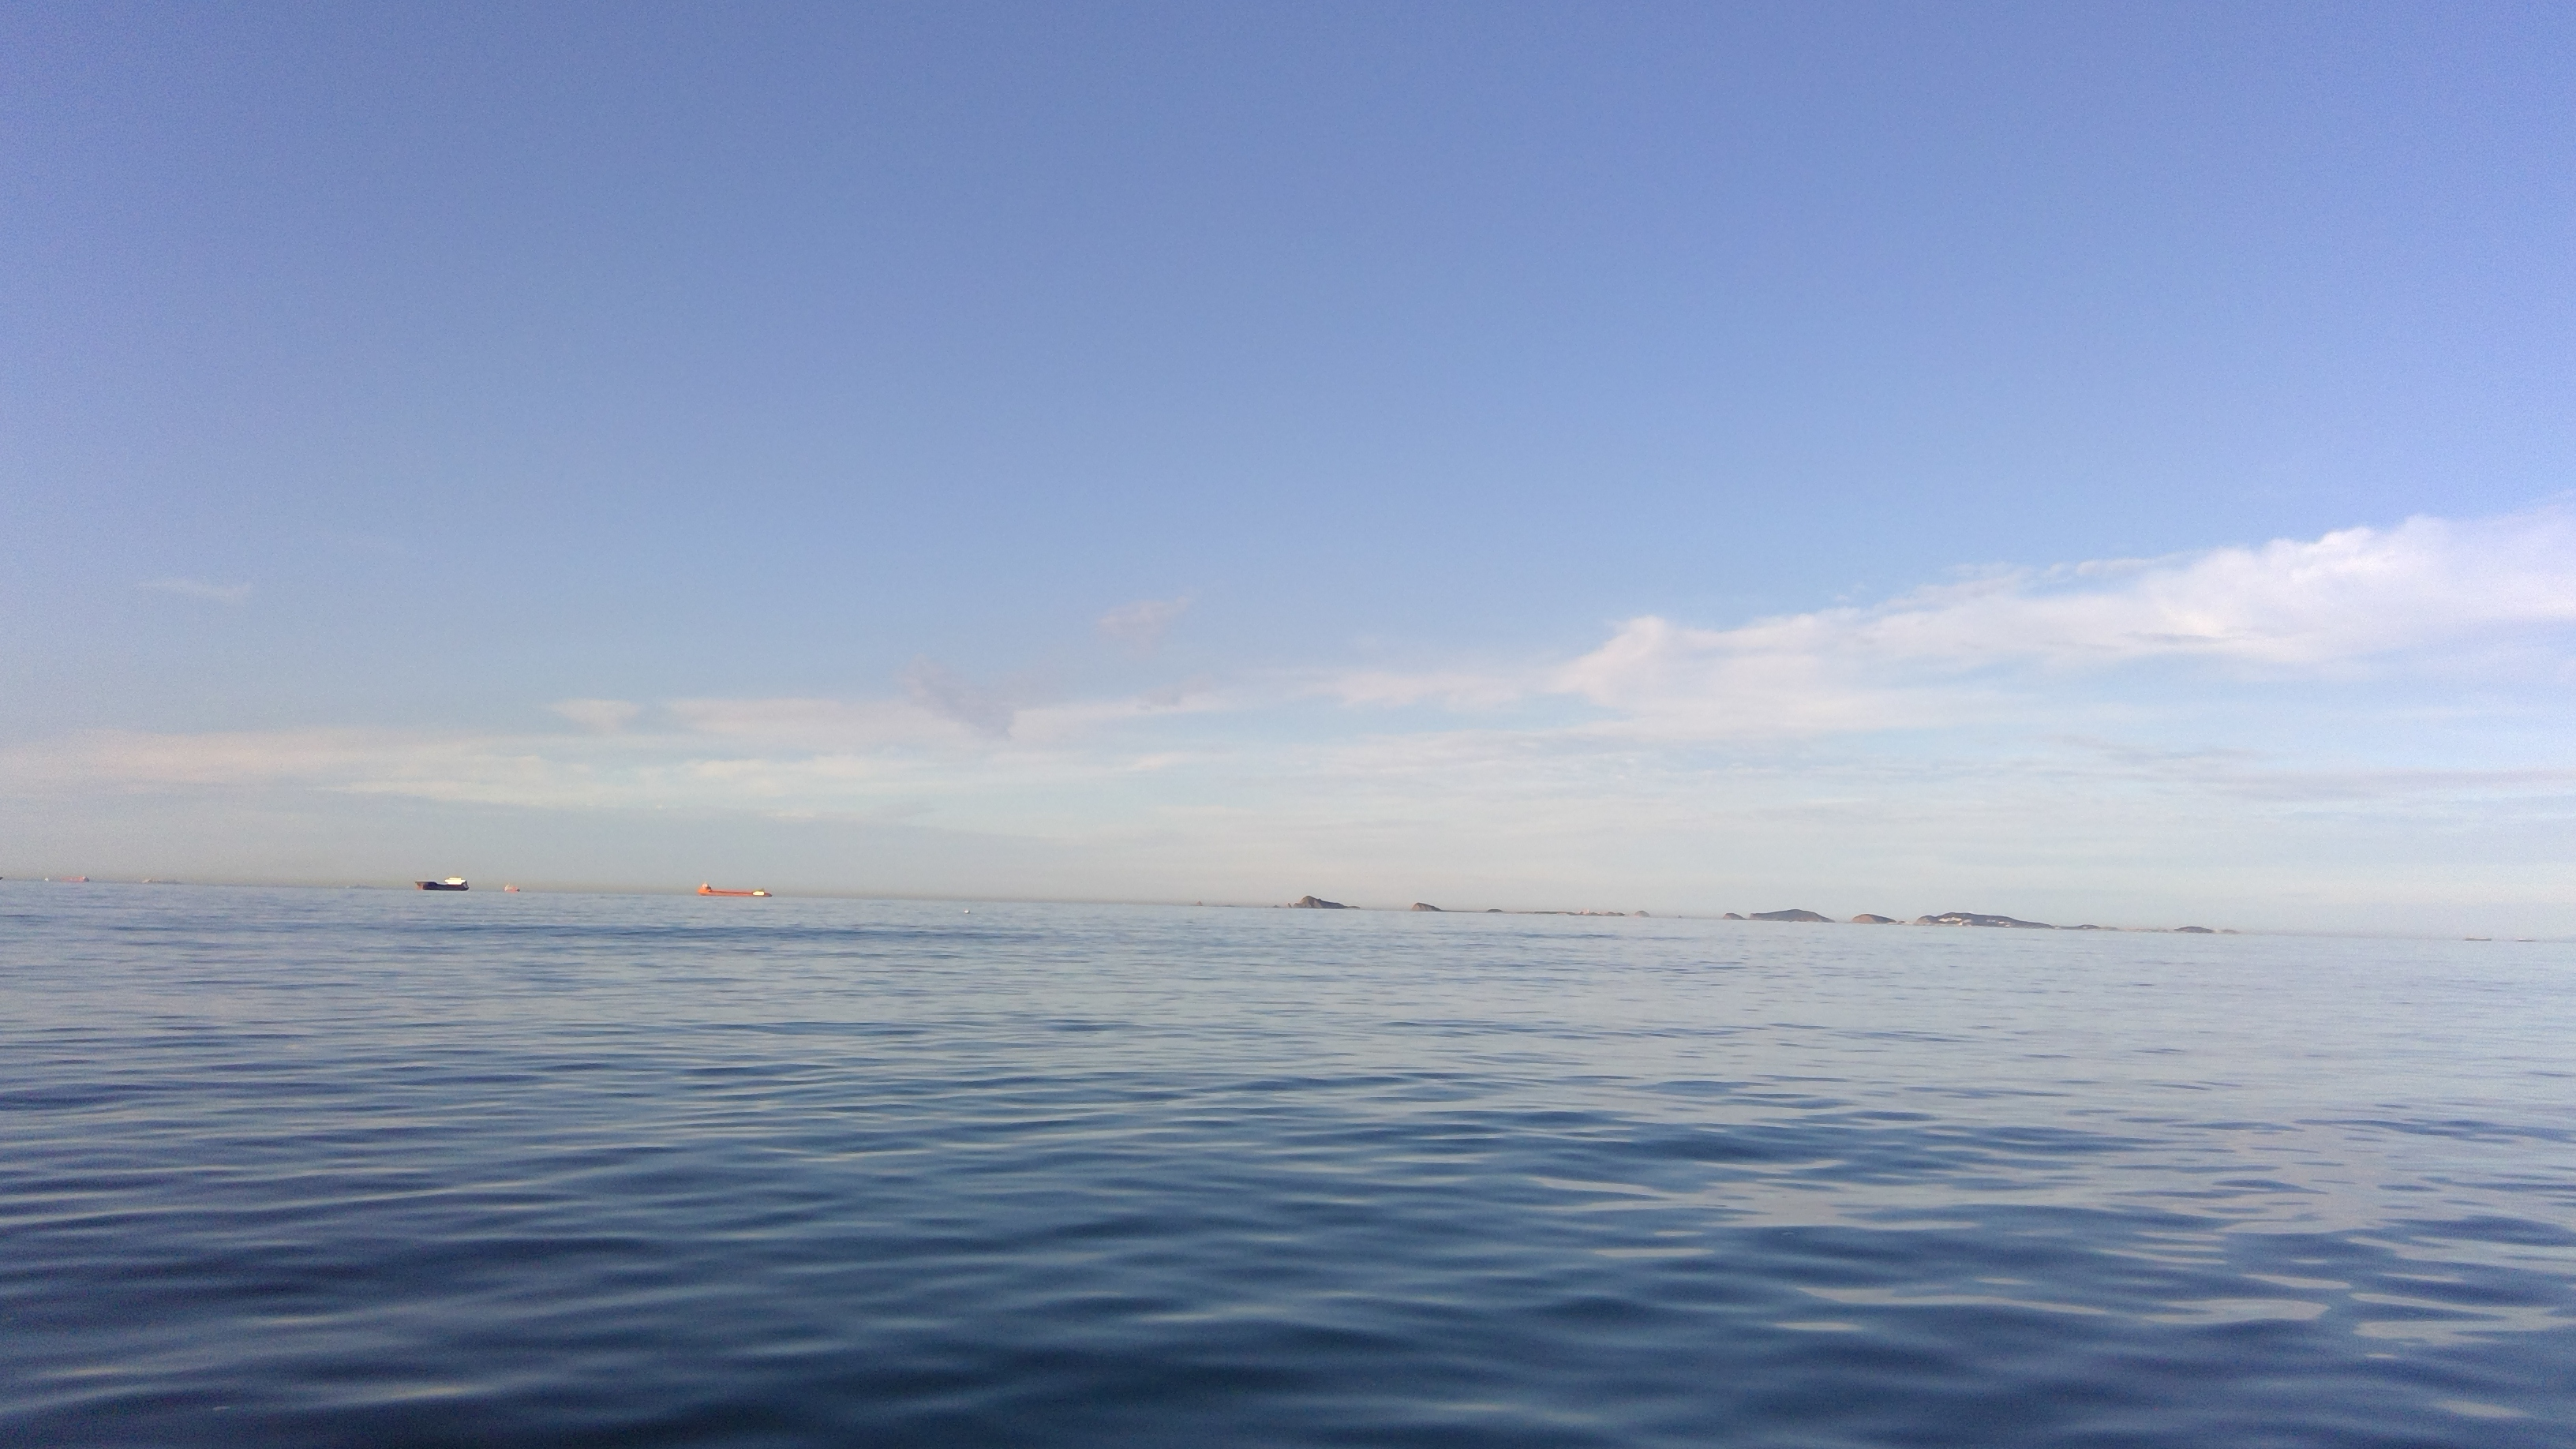platform: (690, 870, 786, 902)
rock: (1856, 895, 2102, 929), (1281, 879, 1368, 916), (1729, 899, 1829, 929), (1405, 899, 1463, 929)
ship: (409, 865, 476, 897)
